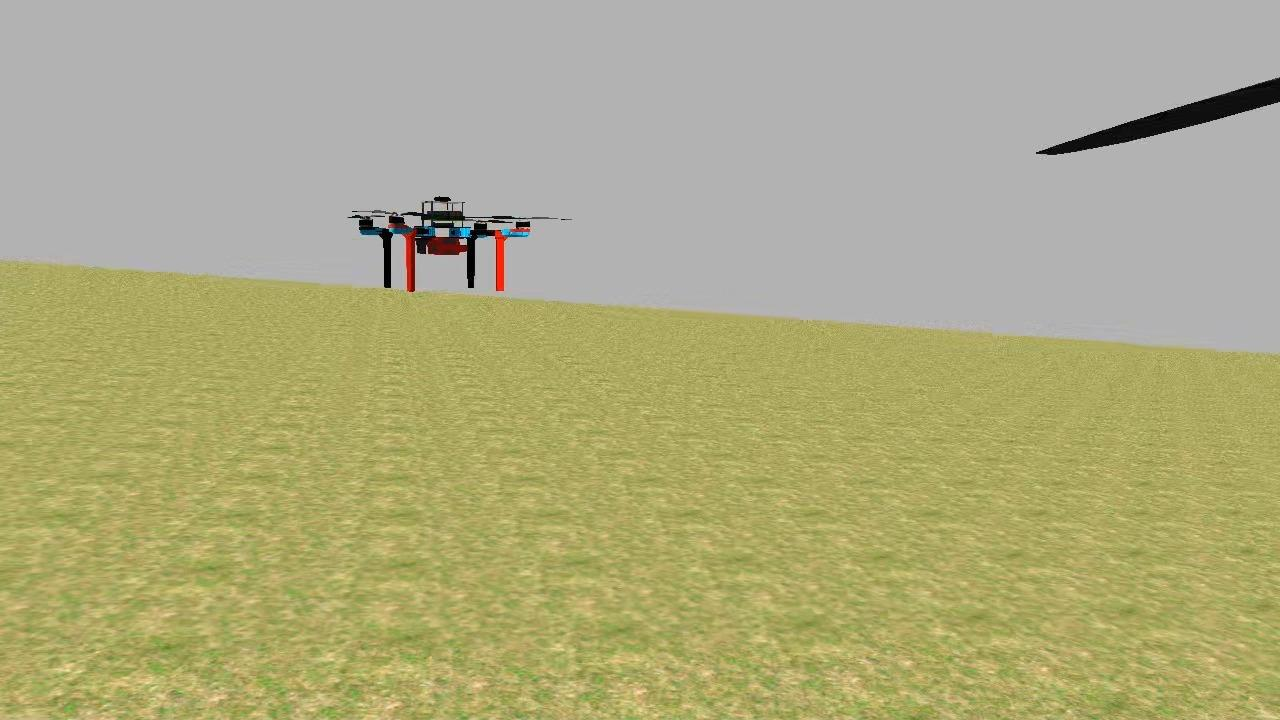UAV: (350, 190, 534, 298)
